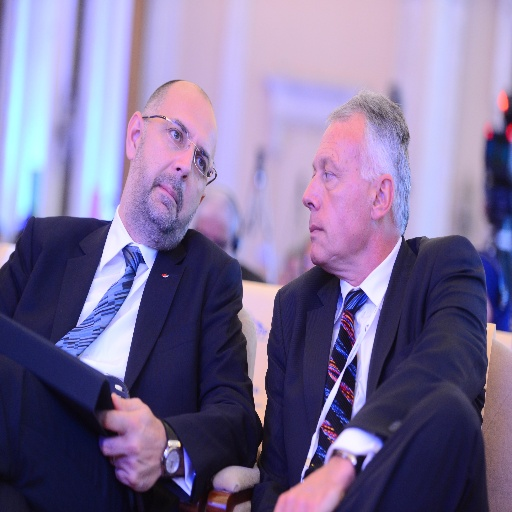hand: (90, 400, 174, 479), (272, 464, 348, 511)
